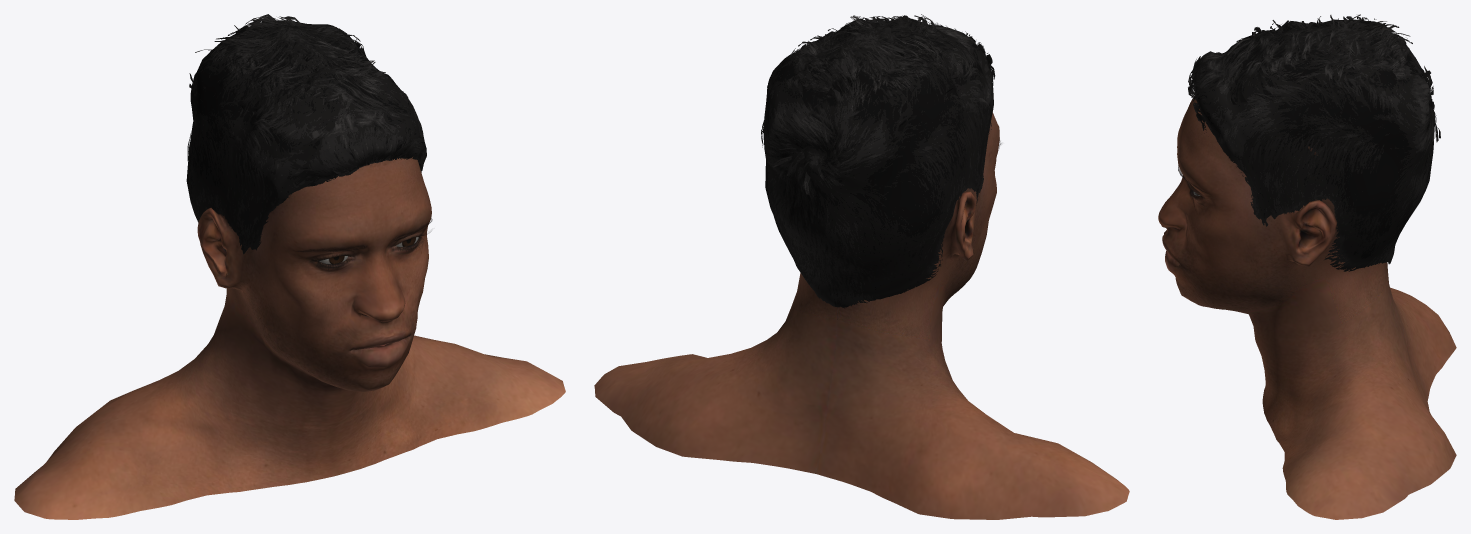
File: sample-head.glb
3 renders of one model, left to right at view 1: azimuth 30°, elevation 25°; view 2: azimuth 150°, elevation 25°; view 3: azimuth 270°, elevation 25°, orthographic. The views are drawn at different scales.
Parts seen in each view (by area): view 1: Skin, Hair; view 2: Skin, Hair; view 3: Skin, Hair.
Boxes of the visible parts, x1,y1,x2,y2 form: Skin: (14,157,565,519); Hair: (186,14,426,254); Skin: (594,112,1129,519); Hair: (761,14,995,308); Skin: (1158,96,1456,519); Hair: (1188,14,1440,271).
Size of the model in its own units: 0.4567 by 0.3379 by 0.2431.
Materials: 6 (5 with a texture image).
